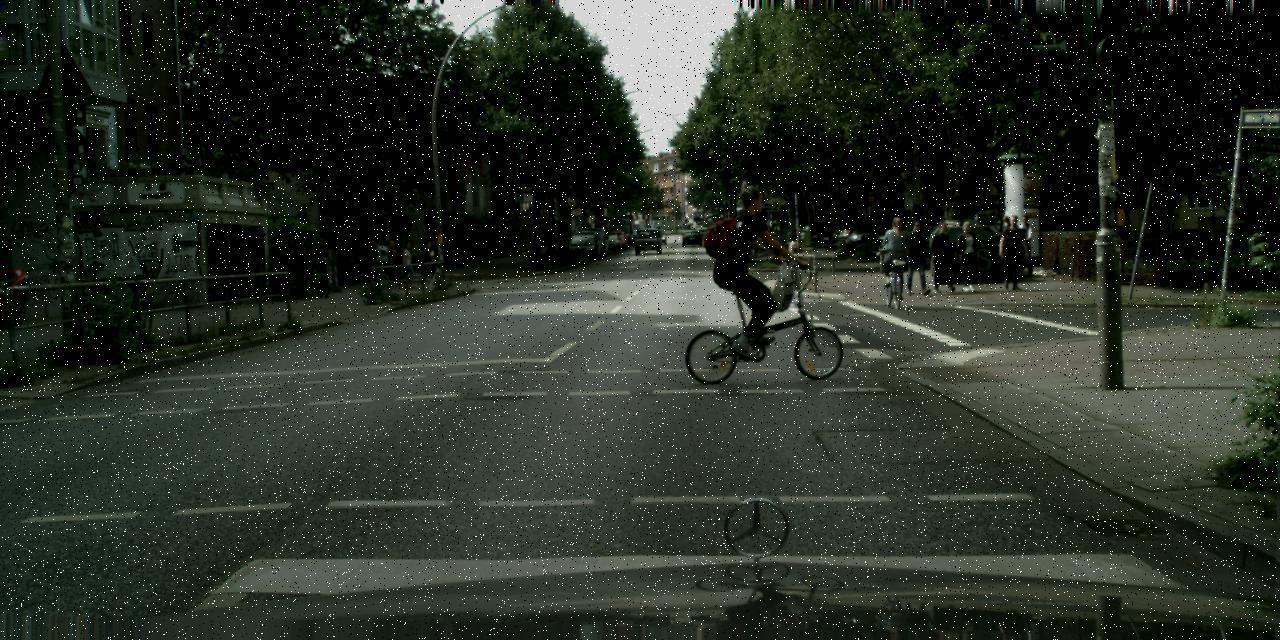ped: (715, 182, 781, 344), (879, 215, 910, 292), (996, 214, 1027, 290), (901, 220, 931, 294), (928, 222, 957, 292), (954, 221, 982, 291), (1011, 215, 1035, 274), (996, 214, 1019, 272), (419, 240, 439, 288), (382, 238, 401, 286), (312, 238, 331, 286), (398, 242, 417, 288), (372, 241, 388, 282)
